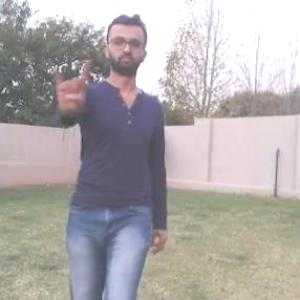takeoff-hand: (46, 53, 91, 120)
